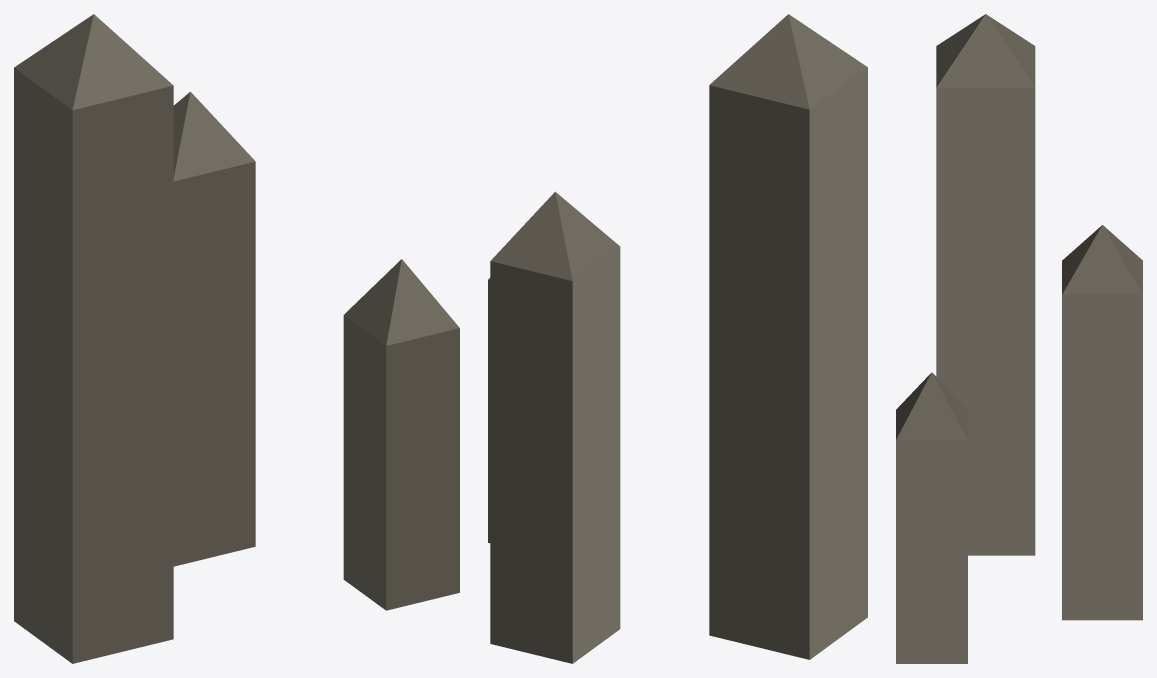
The model's file is terr_pillar.glb.
3 views of the same model, side by side, from view 1: azimuth 30°, elevation 25°; view 2: azimuth 150°, elevation 25°; view 3: azimuth 270°, elevation 25° (orthographic). The views are drawn at different scales.
Parts seen in each view (by area): view 1: terr_pillar; view 2: terr_pillar; view 3: terr_pillar.
Part boxes in pixels (box(x1,y1,x2,y2)): terr_pillar: box(14, 14, 459, 663); terr_pillar: box(488, 14, 867, 663); terr_pillar: box(896, 14, 1142, 663).
Size of the model in its own units: 0.79 by 1.28 by 0.55.
1 material, 1 textured.
